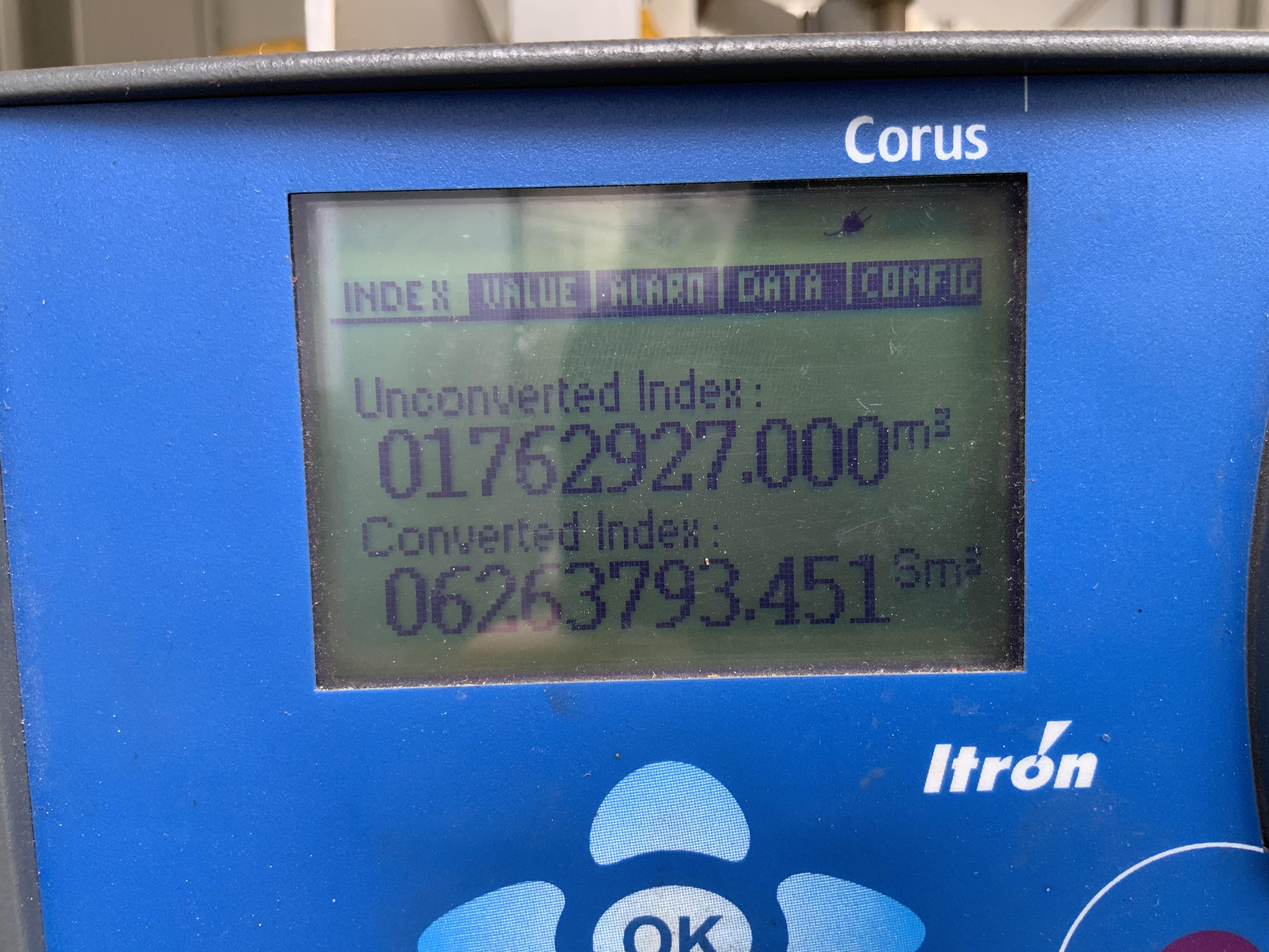digital_screen: (291, 173, 1041, 692)
